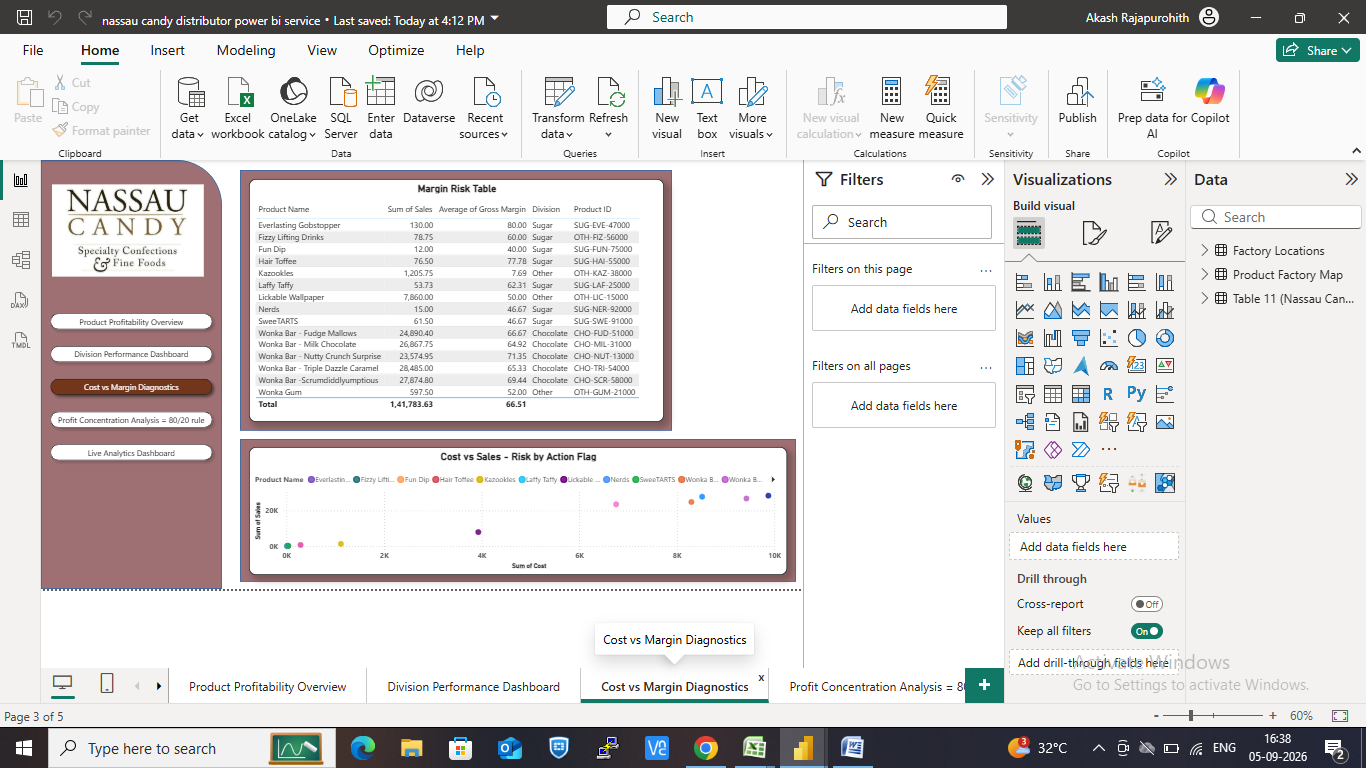

This screenshot's page, from the dashboard's own definition file:
{"tool":"powerbi","page":{"name":"Cost vs Margin Diagnostics","canvas":[1280,720],"ordinal":2},"visuals":[{"type":"shape","box":[334.3,468.7,934,240.2],"z":0},{"type":"scatterChart","title":"Cost vs Sales - Risk by Action Flag","fields":{"Series":["Table 11 (Nassau Candy Distributor 1).Product Name"],"X":["Sum(Table 11 (Nassau Candy Distributor 1).Cost)"],"Y":["Sum(Table 11 (Nassau Candy Distributor 1).Sales)"]},"box":[349.4,482.1,903.7,215],"z":1000},{"type":"shape","box":[334.3,16.8,725.7,438.4],"z":2000},{"type":"tableEx","title":"Margin Risk Table","fields":{"Values":["Table 11 (Nassau Candy Distributor 1).Product Name","Sum(Table 11 (Nassau Candy Distributor 1).Sales)","Avg(Table 11 (Nassau Candy Distributor 1).Gross Margin)","Table 11 (Nassau Candy Distributor 1).Division","Table 11 (Nassau Candy Distributor 1).Product ID"]},"box":[349.4,31.9,697.1,408.2],"z":3000},{"type":"shape","box":[0,0,304,720.6],"z":3500,"group":"g1"},{"type":"group","id":"g1","title":"Group 1","box":[0,0,304,720.6],"z":4000},{"type":"image","box":[18.5,31.9,255.3,173],"z":5000},{"type":"pageNavigator","box":[6.7,248.6,290.6,265.4],"z":6500,"group":"g1"}]}

Visuals, with their boxes on the page's 1280x720 design canvas (x1, y1, x2, y2). These are canvas units, not pixel positions in the 1366x768 screenshot, which may show the page scaled, cropped or inside an application window:
shape: [x1=334, y1=469, x2=1268, y2=709]
"Cost vs Sales - Risk by Action Flag" scatterChart: [x1=349, y1=482, x2=1253, y2=697]
shape: [x1=334, y1=17, x2=1060, y2=455]
"Margin Risk Table" tableEx: [x1=349, y1=32, x2=1046, y2=440]
shape: [x1=0, y1=0, x2=304, y2=721]
"Group 1" group: [x1=0, y1=0, x2=304, y2=721]
image: [x1=18, y1=32, x2=274, y2=205]
pageNavigator: [x1=7, y1=249, x2=297, y2=514]
